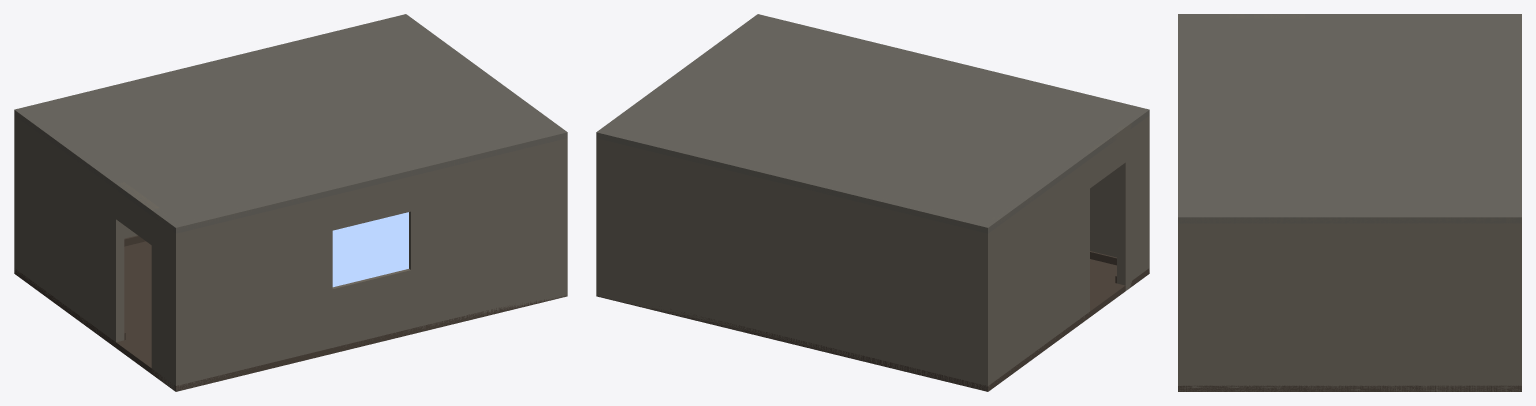
The model's file is livingroom.glb.
The picture shows the model from 3 angles, left to right: view 1: azimuth 30°, elevation 25°; view 2: azimuth 150°, elevation 25°; view 3: azimuth 270°, elevation 25°; orthographic projection. The views are drawn at different scales.
Parts seen in each view (by area): view 1: livingroom; view 2: livingroom; view 3: livingroom.
Part boxes in pixels (x1,y1,x2,y2): livingroom: [14, 14, 567, 391]; livingroom: [596, 14, 1149, 391]; livingroom: [1178, 14, 1521, 391].
Size of the model in its own units: 7 by 2.8 by 5.
